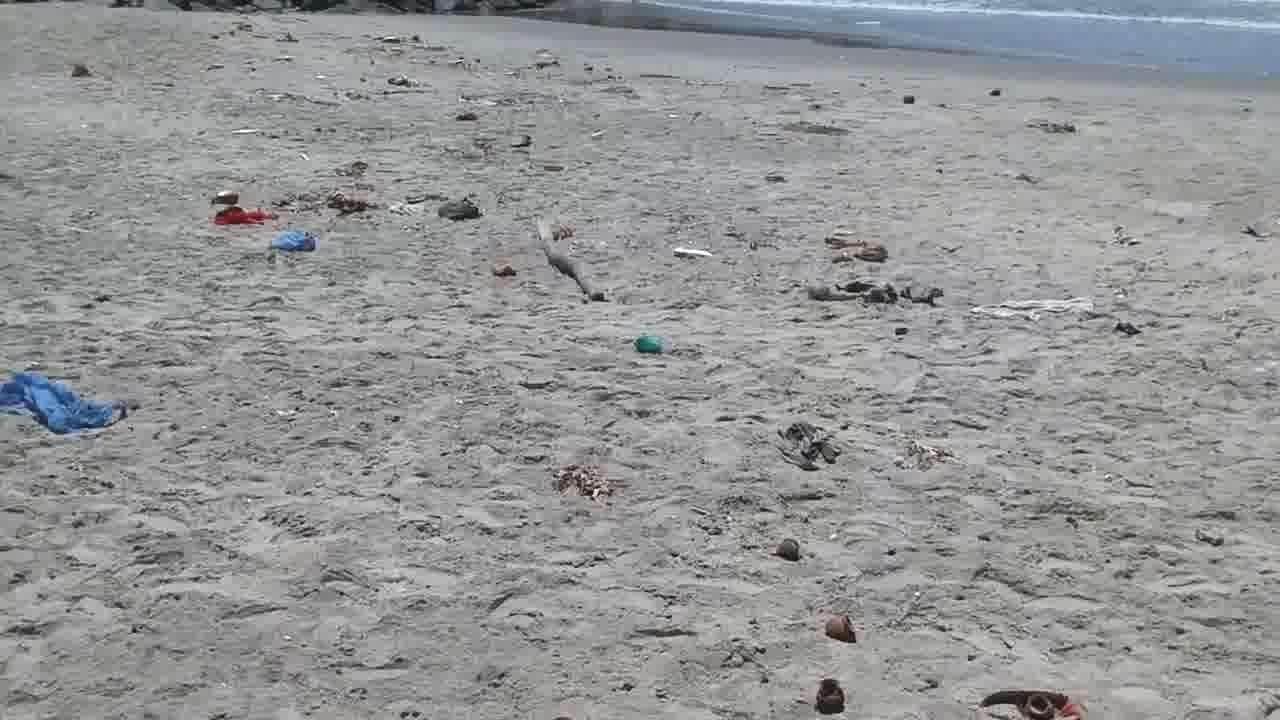obj: (0, 376, 119, 434), (538, 217, 606, 299), (969, 298, 1094, 322), (558, 463, 623, 508), (284, 188, 374, 218), (218, 202, 286, 227), (272, 231, 320, 252)
sand/background: (1, 0, 1279, 118)
